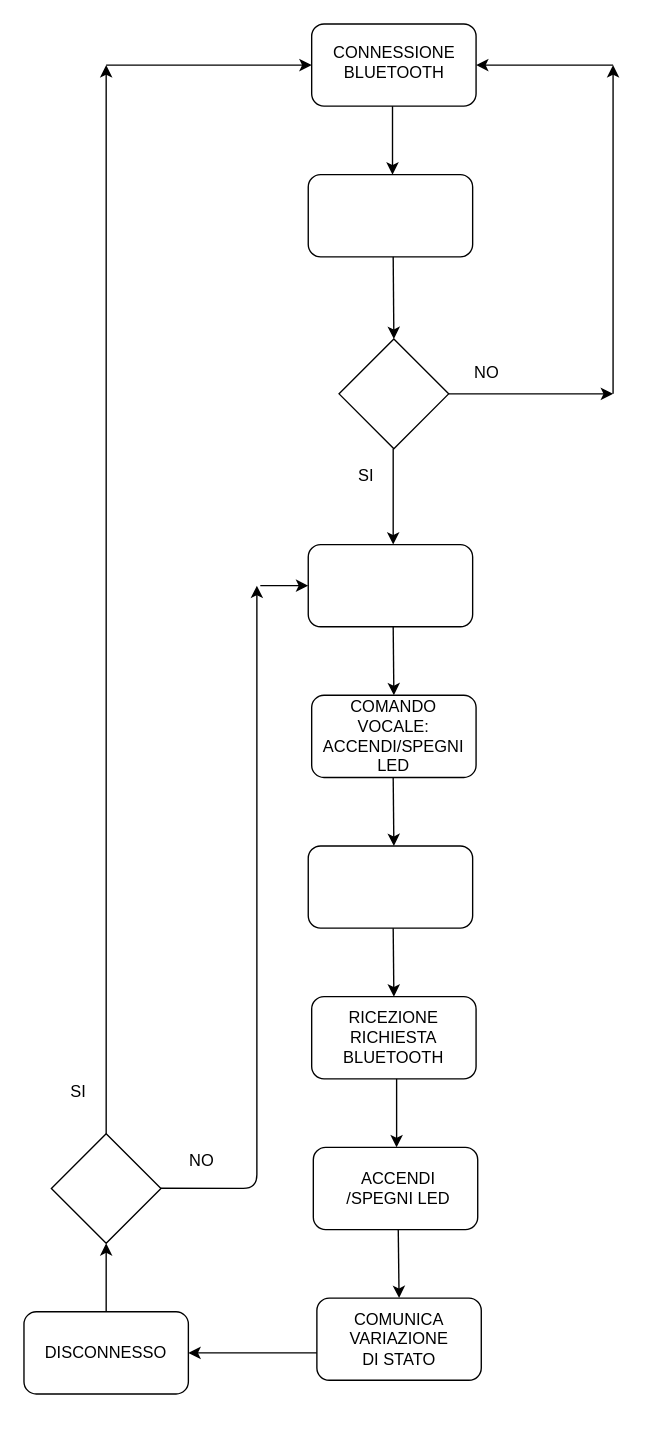
Image size: 648x1432. Some labels were removed from this diagram. The centre of each missing label's shape, as x and y in pixels:
"CONNESSO?" goes at (390,215).
"INVIO RICHIESTA BLUETOOTH" goes at (390,886).
"PRESSIONE TASTO" goes at (390,585).
